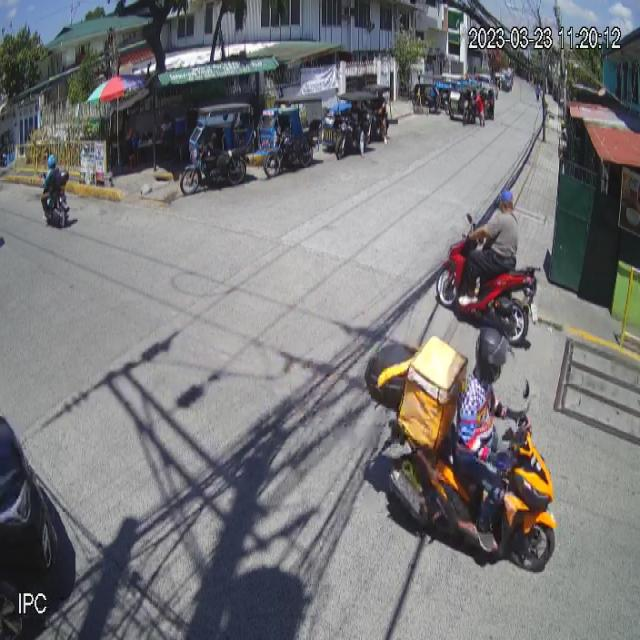Motorcycle: (387, 377, 557, 572), (434, 211, 543, 345)
